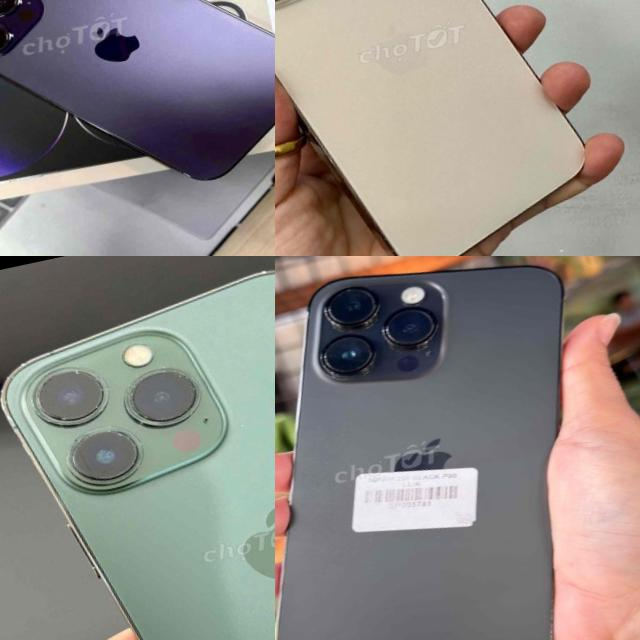gen_12_13: (0, 256, 275, 640)
gen_14: (275, 256, 640, 640), (275, 0, 607, 256), (0, 0, 275, 238)
